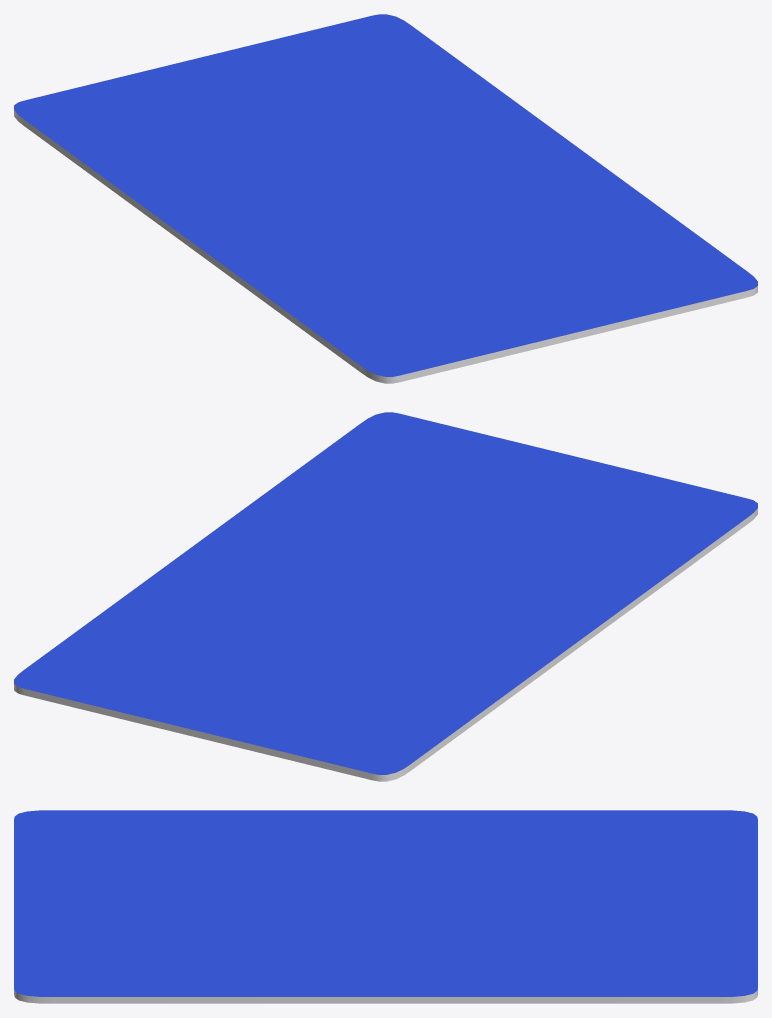
File: card.fbx
3 views of the same model, one above another, from view 1: azimuth 30°, elevation 25°; view 2: azimuth 150°, elevation 25°; view 3: azimuth 270°, elevation 25° (orthographic).
Parts seen in each view (by area): view 1: Plane; view 2: Plane; view 3: Plane.
Boxes of the visible parts, bbox=[...] form: Plane: bbox=[14, 14, 757, 383]; Plane: bbox=[14, 412, 757, 781]; Plane: bbox=[14, 810, 757, 1003].
Bounding box in the file's own units: 200 × 3.32 × 337.
